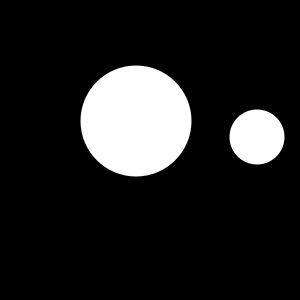rectangle: (80, 66, 192, 176), (230, 110, 284, 164)
